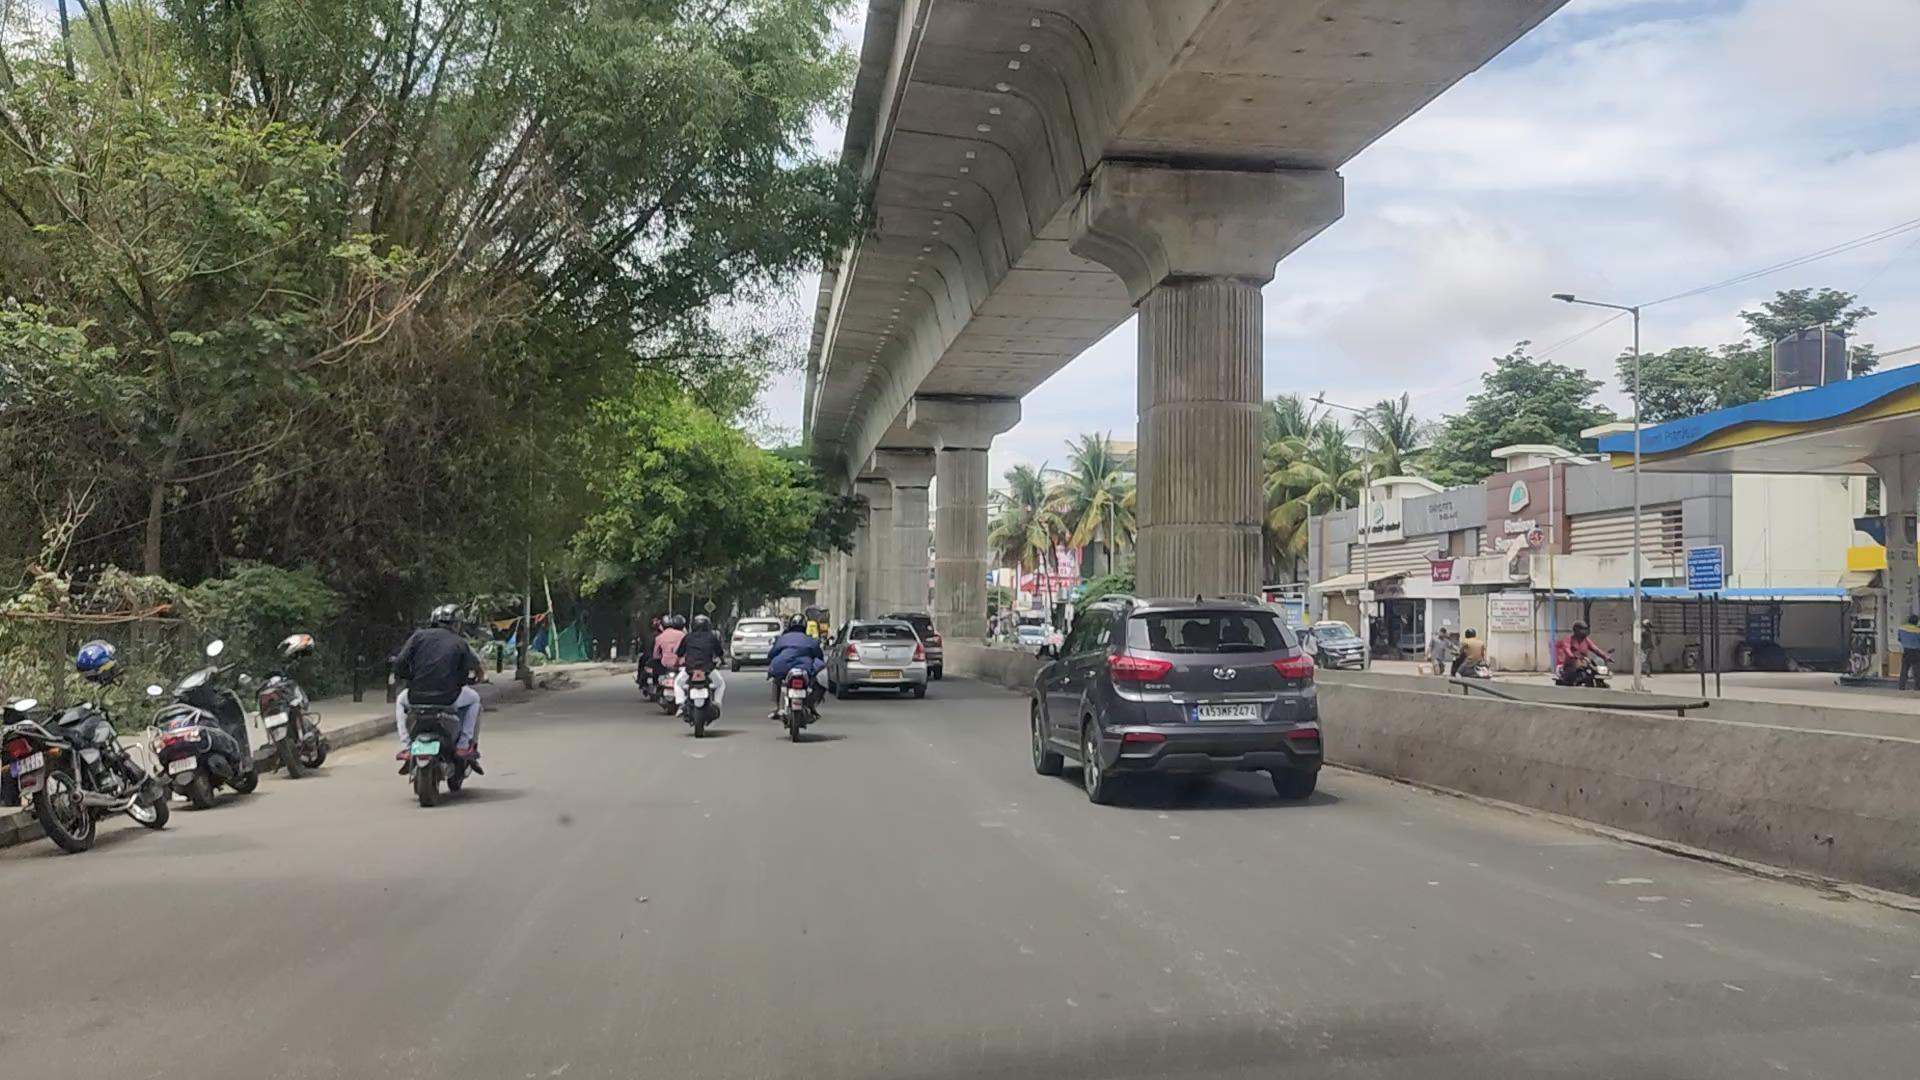LMV: (1052, 579, 1377, 815), (388, 591, 477, 815), (758, 600, 833, 748), (671, 601, 725, 738)
